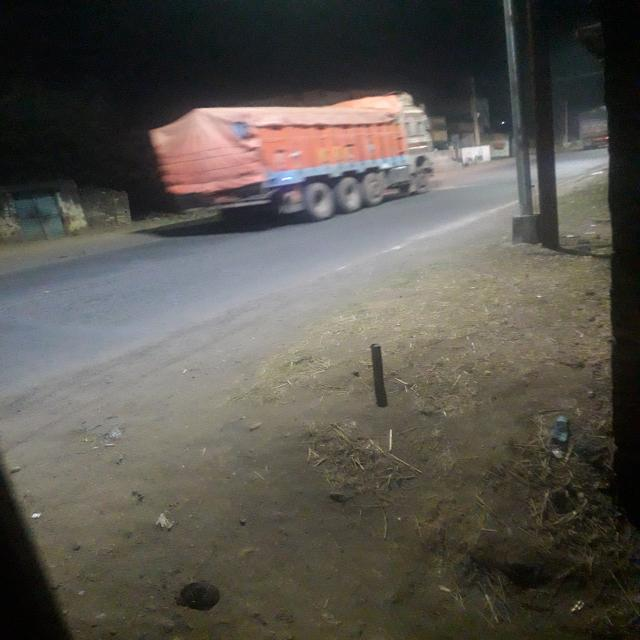truck: (141, 91, 442, 219)
